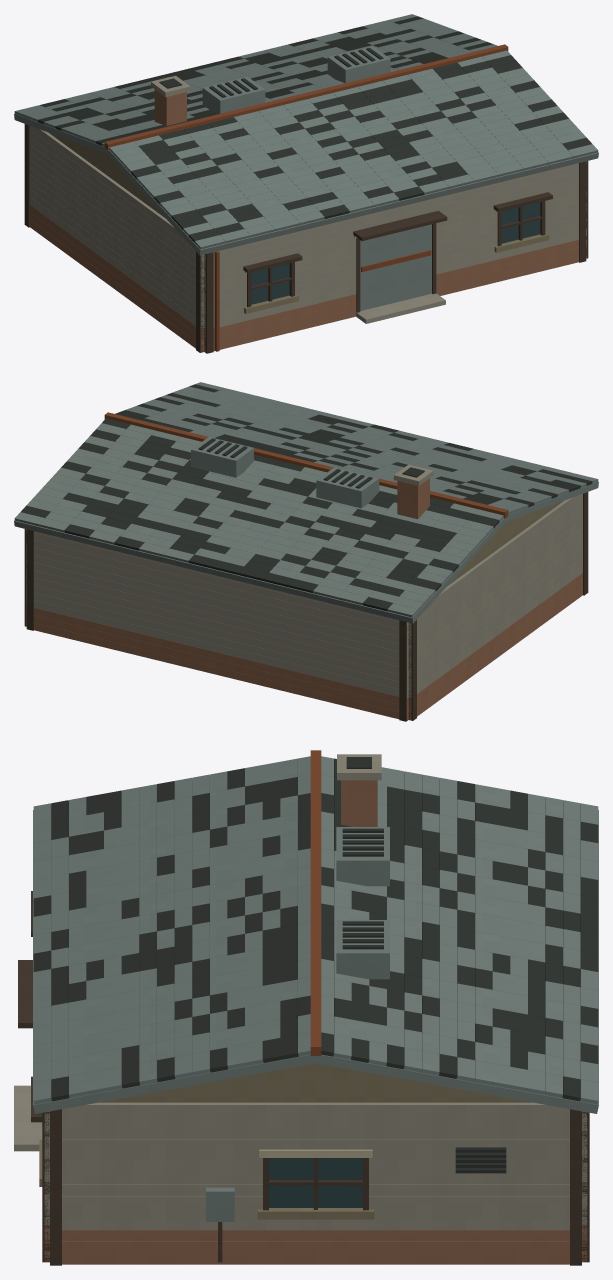
Rendered from supply.glb.
3 renders of one model, top to bottom at view 1: azimuth 30°, elevation 25°; view 2: azimuth 150°, elevation 25°; view 3: azimuth 270°, elevation 25°, orthographic. The views are drawn at different scales.
Parts seen in each view (by area): view 1: Roof, Front, FarSide, Gate, Step; view 2: Roof, Back, FarSide; view 3: Roof, NearSide, Front, Step, Back.
Boxes of the visible parts, box(x1,y1,x2,y2) form: Roof: box(14, 14, 598, 255); Front: box(204, 161, 586, 353); FarSide: box(24, 124, 204, 352); Gate: box(360, 224, 431, 310); Step: box(356, 293, 445, 323); Roof: box(14, 382, 598, 623); Back: box(26, 529, 408, 721); FarSide: box(408, 492, 588, 720); Roof: box(33, 750, 598, 1113); NearSide: box(50, 1102, 581, 1265); Front: box(18, 891, 49, 1262); Step: box(14, 1085, 42, 1151); Back: box(582, 1111, 589, 1262).
Bounding box in the file's own units: 10.55 × 4.47 × 8.79.
9 materials, 9 textured.
